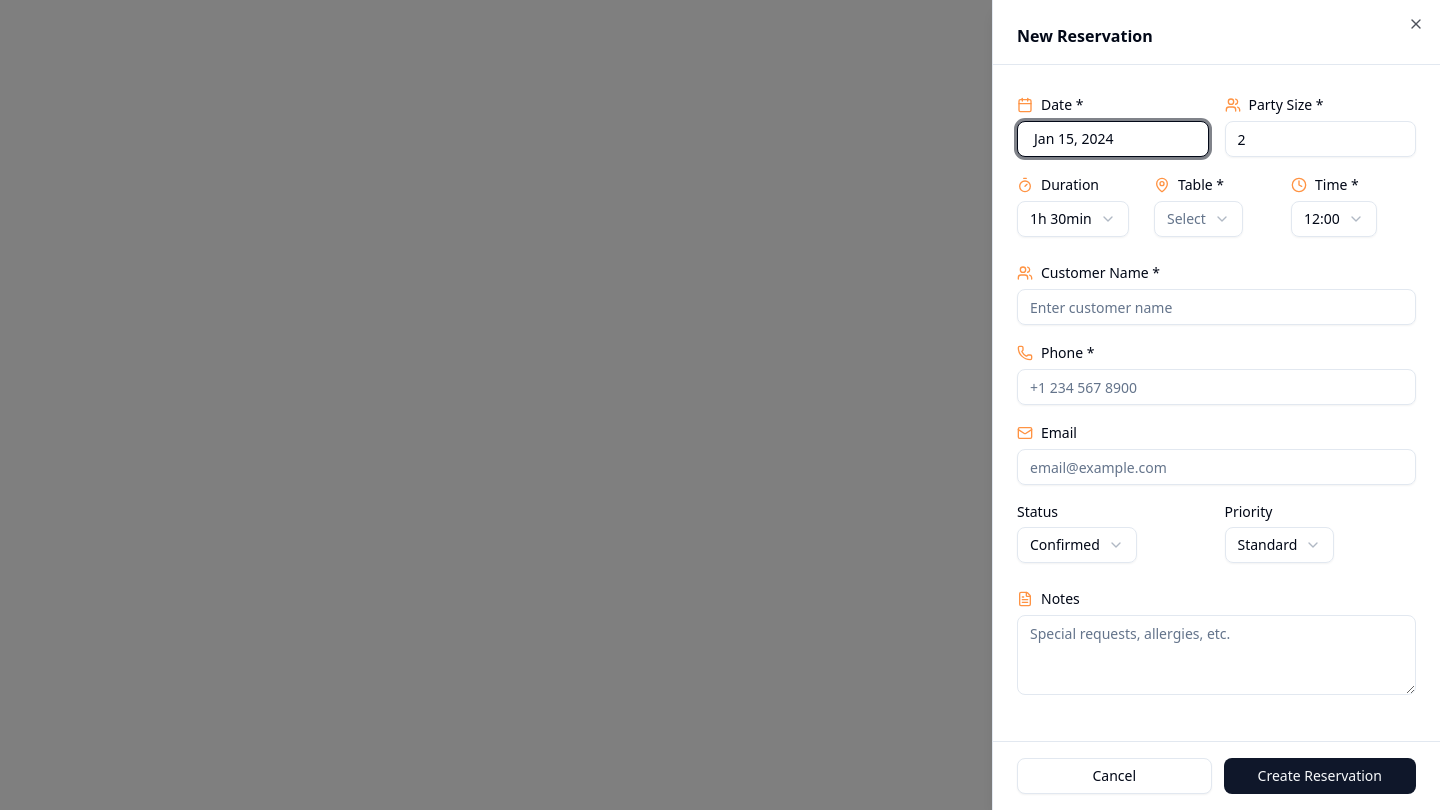
Test case: ReservationSheet › Form Validation › should require table selection in create mode
In the field with placeholder "Enter customer name": point(1216, 307) top-left (1017, 289), bottom-right (1416, 325), type "Test User"
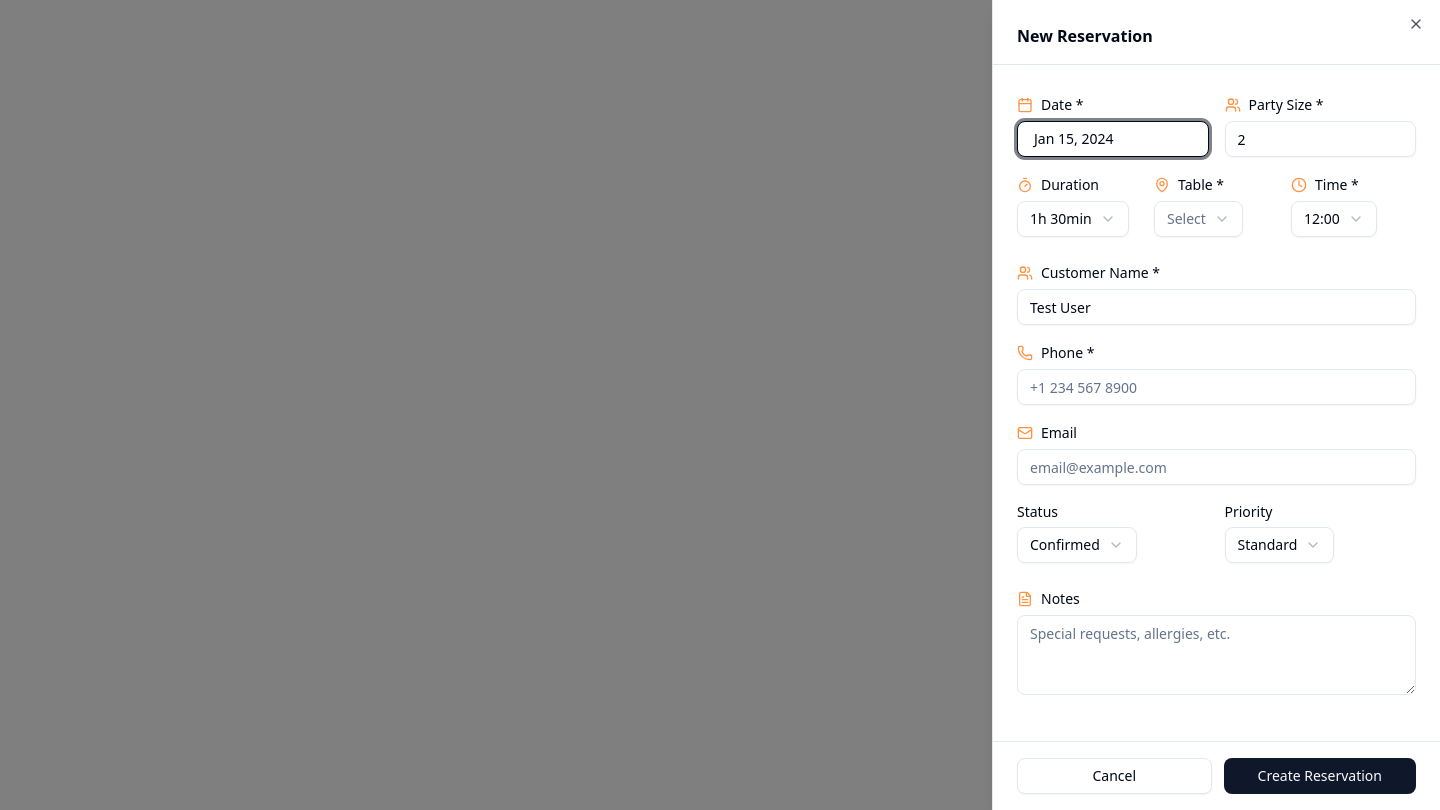
In the field with placeholder "+1 234 567 8900": point(1216, 387) top-left (1017, 369), bottom-right (1416, 405), type "123456789"
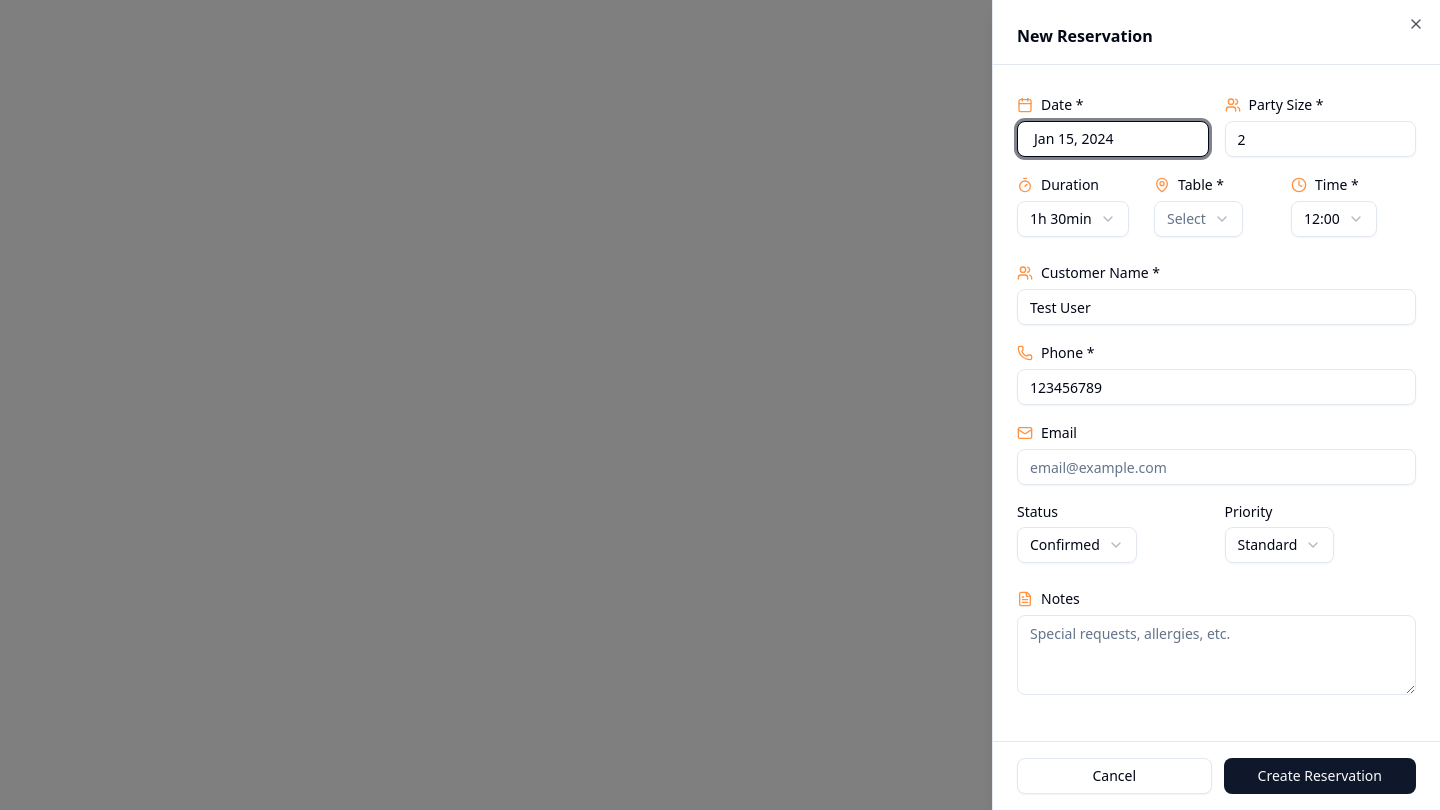
Click the button "Create Reservation": point(1320, 776) top-left (1224, 758), bottom-right (1416, 794)
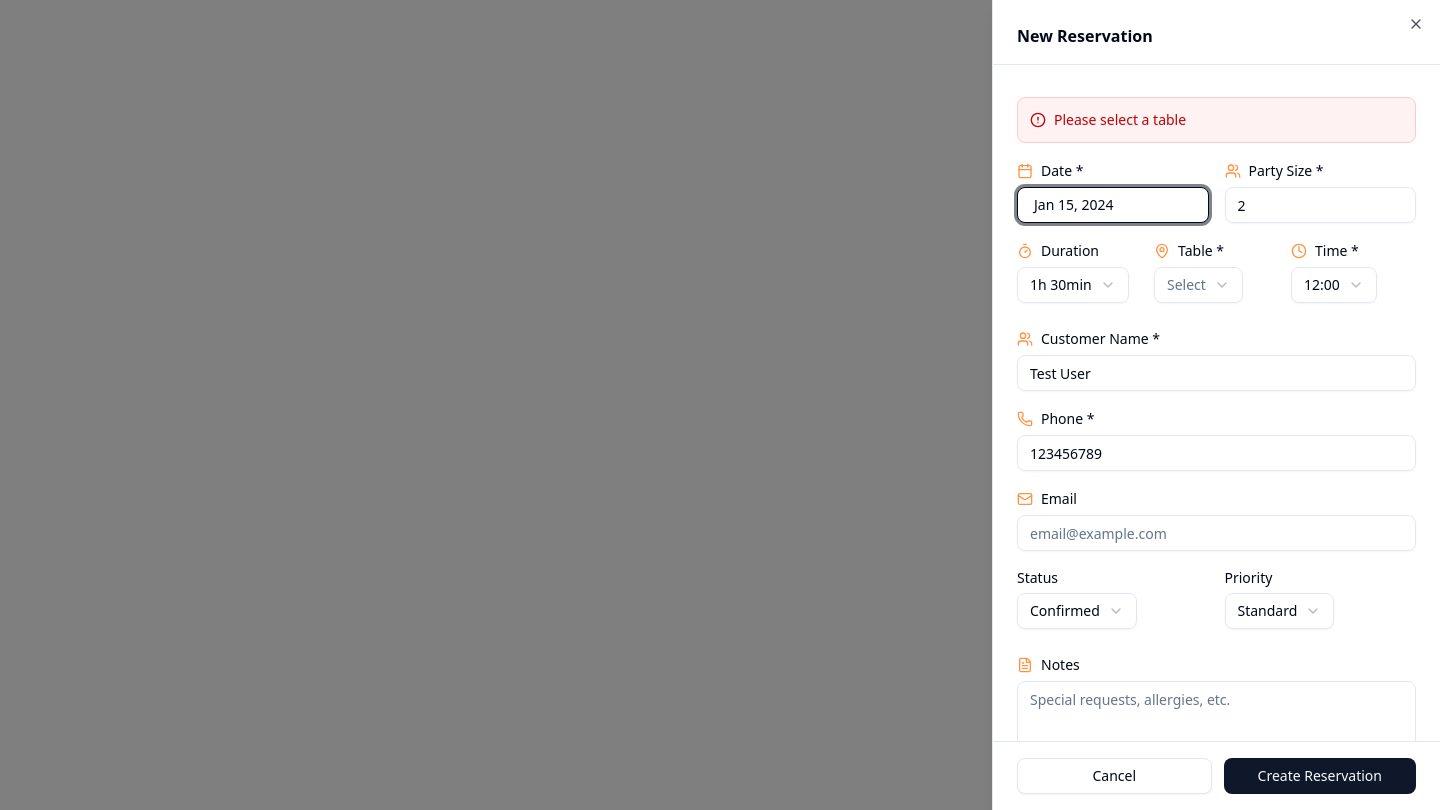
Expected: the text "Please select a table" is shown, top-left (1017, 97), bottom-right (1416, 143)
